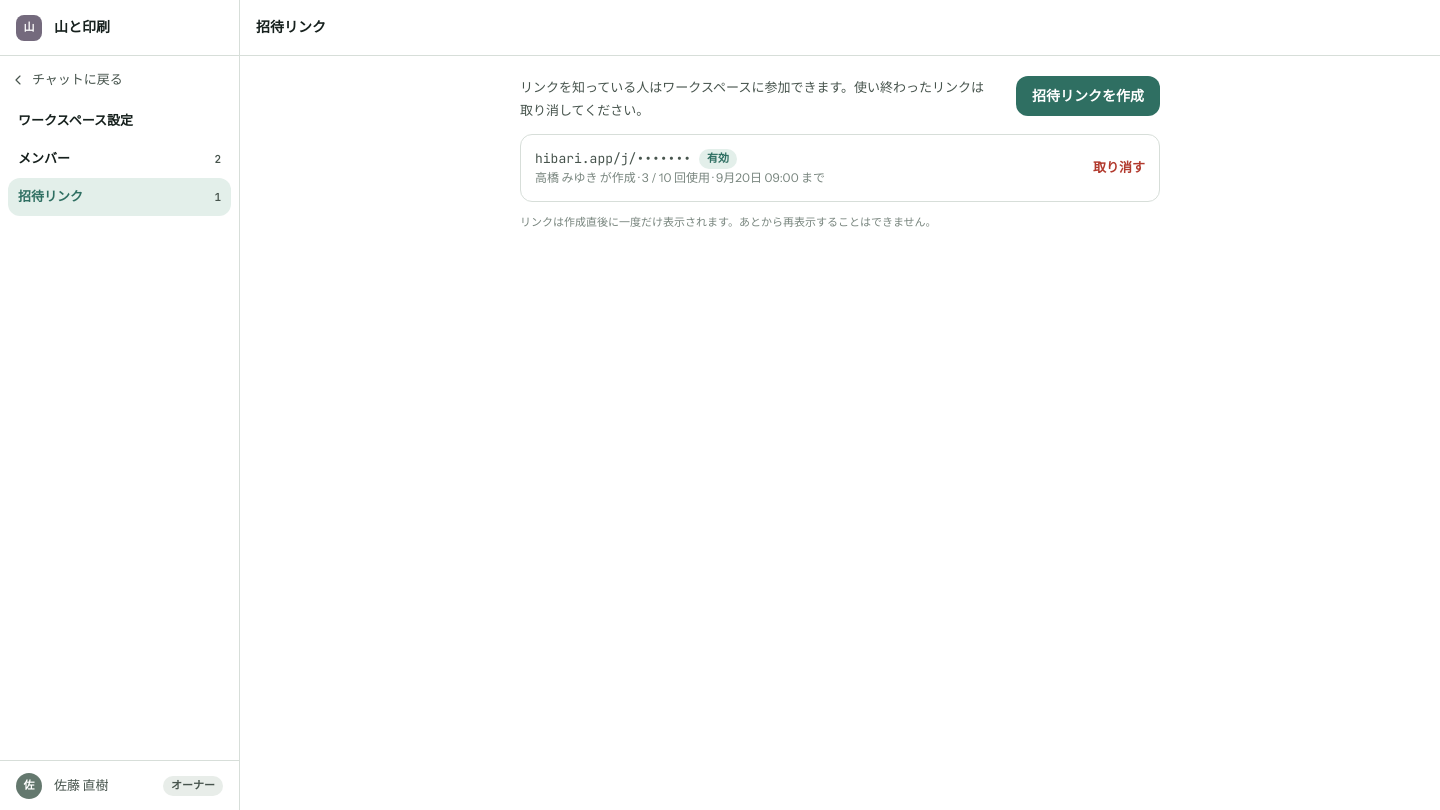
Test: the workspace admin screens › invites › creates a link, shows it once, and does not keep it in the list
The image size is (1440, 810).
Click the button "招待リンクを作成" at [1088, 96], box [1016,76,1160,116]
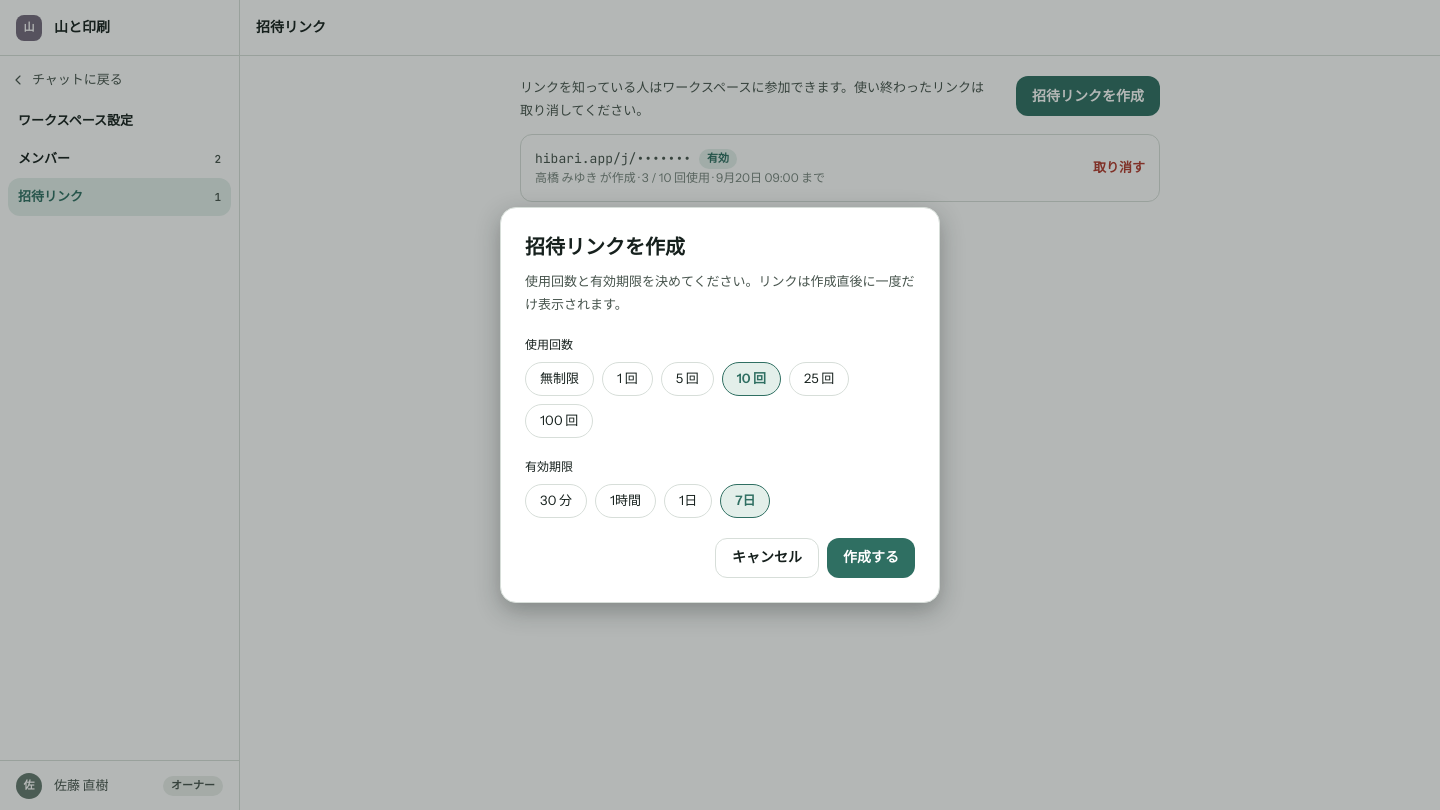
Click the radio button labelled "5 回" at [687, 379], box [661,362,714,396]
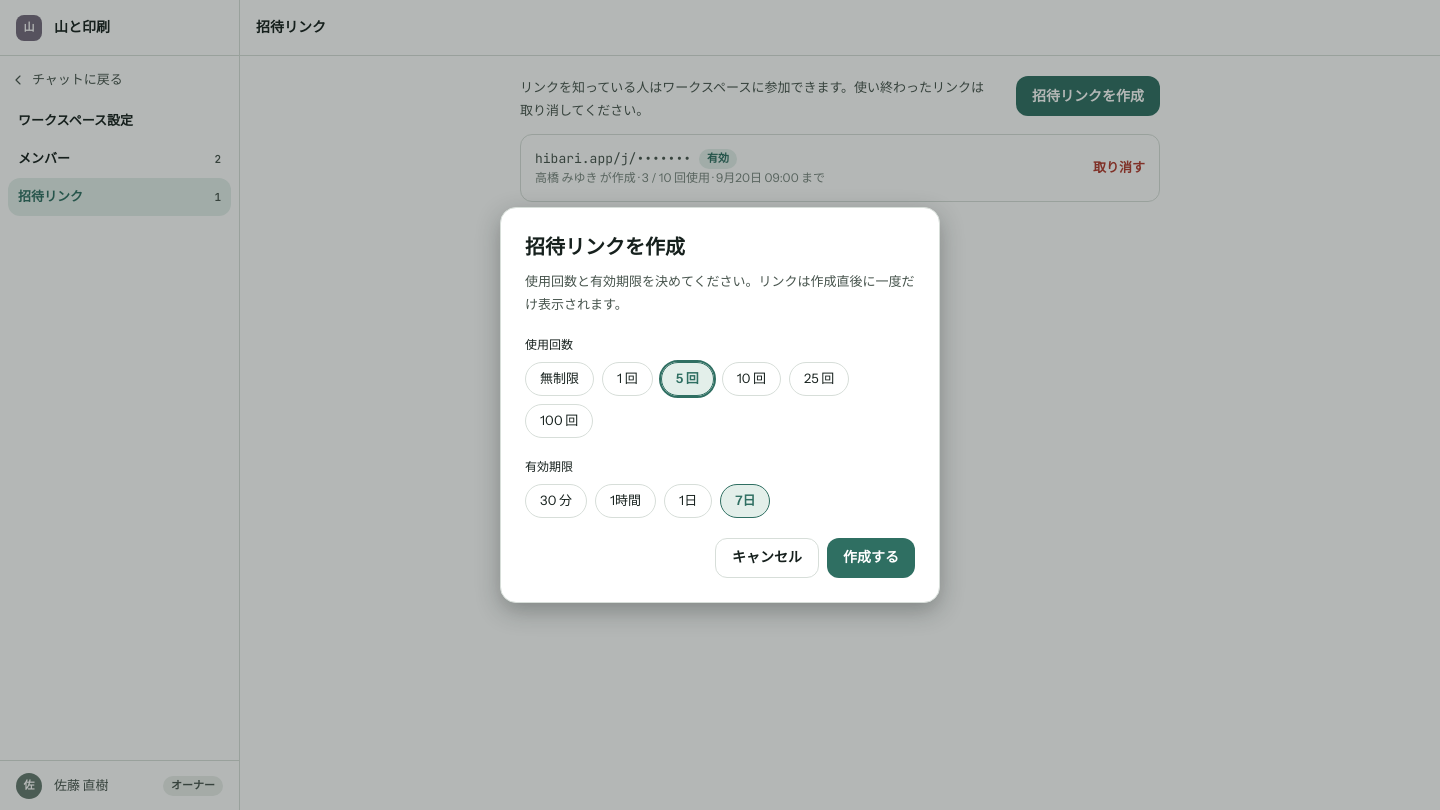
Click the radio button labelled "1日" at [688, 501], box [664,484,712,518]
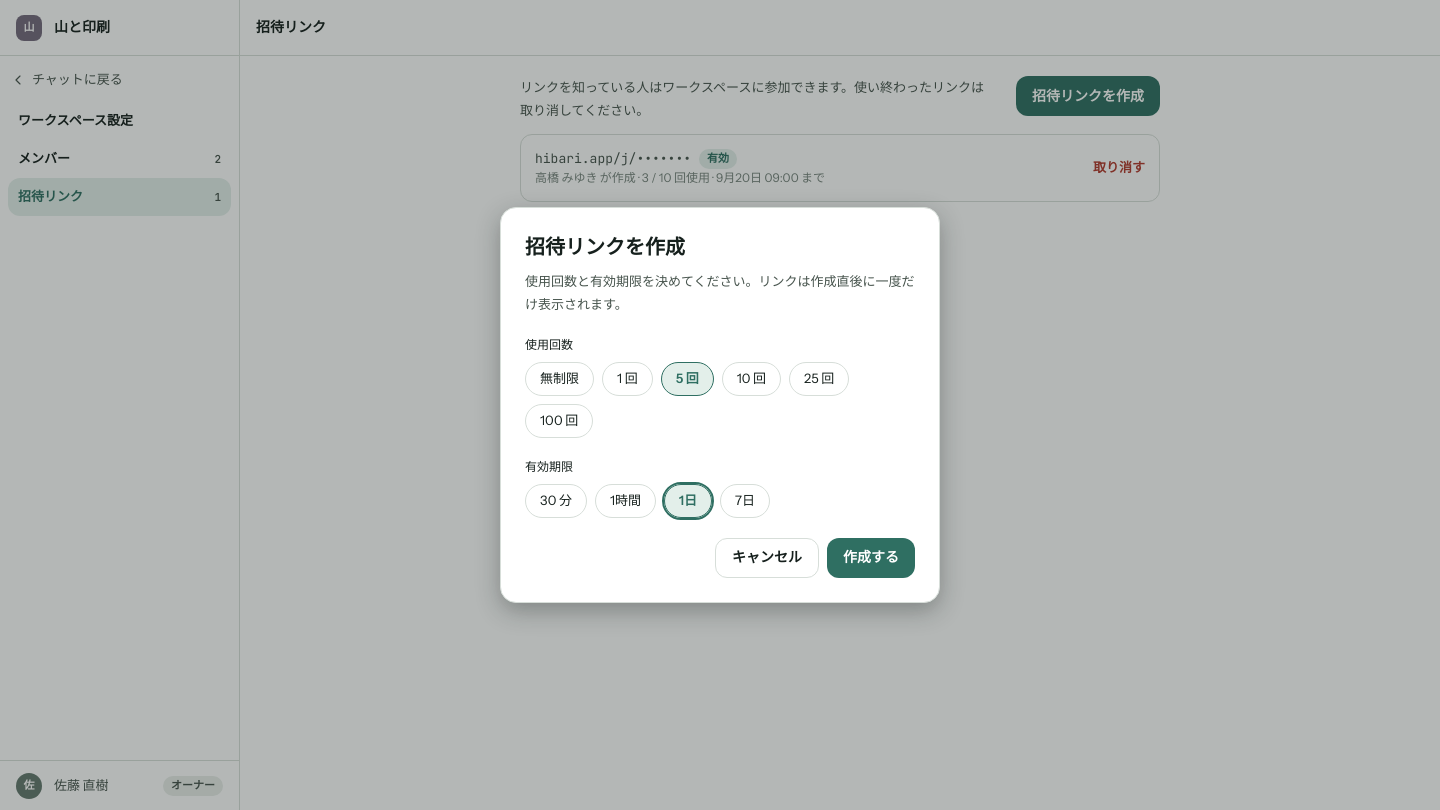
Click the button "作成する" at [871, 558], box [827,538,915,578]
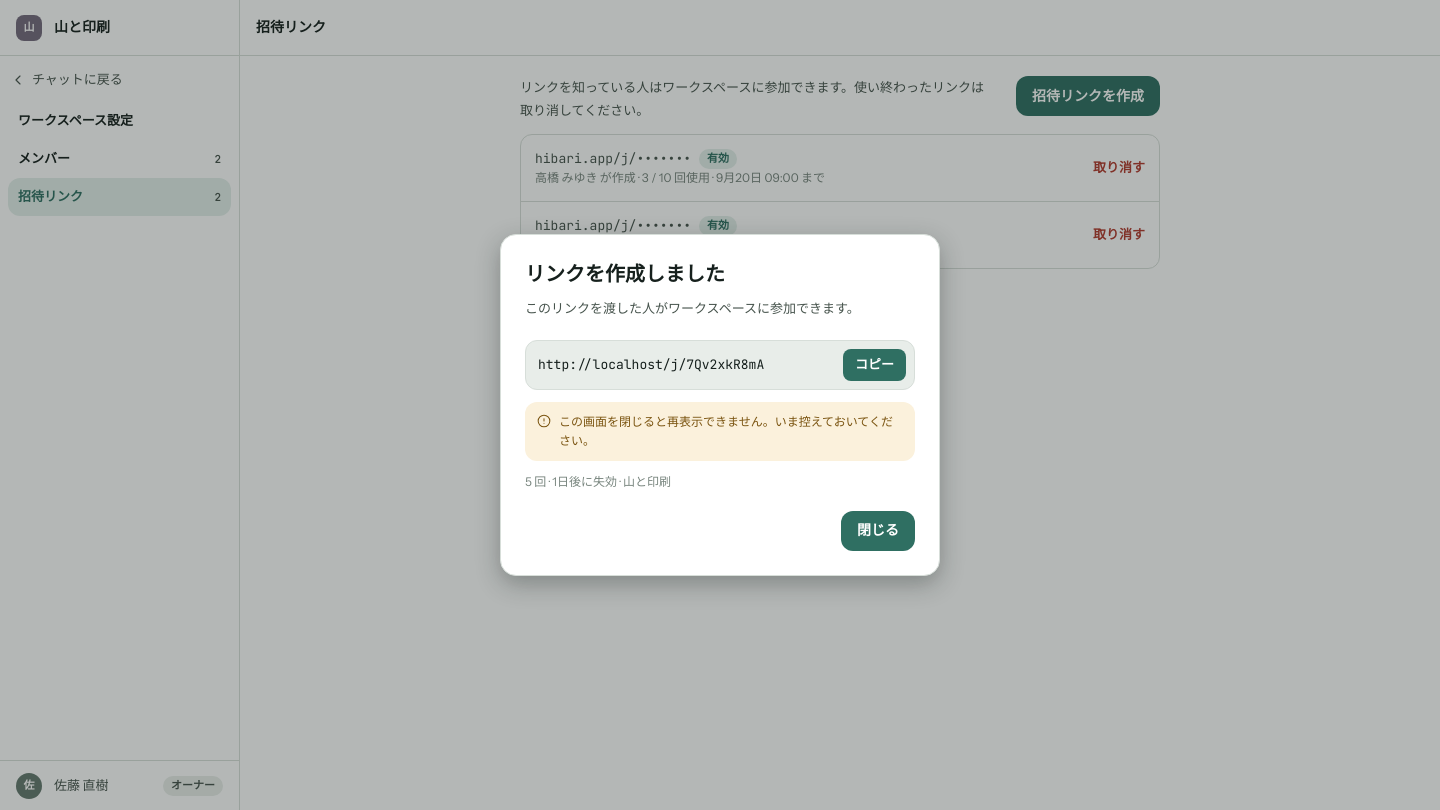
Expected: the text "5 回 · 1日後に失効 · 山と印刷" is shown, [525,474,671,489]
Click the button "閉じる" at [878, 531], box [841,511,915,551]
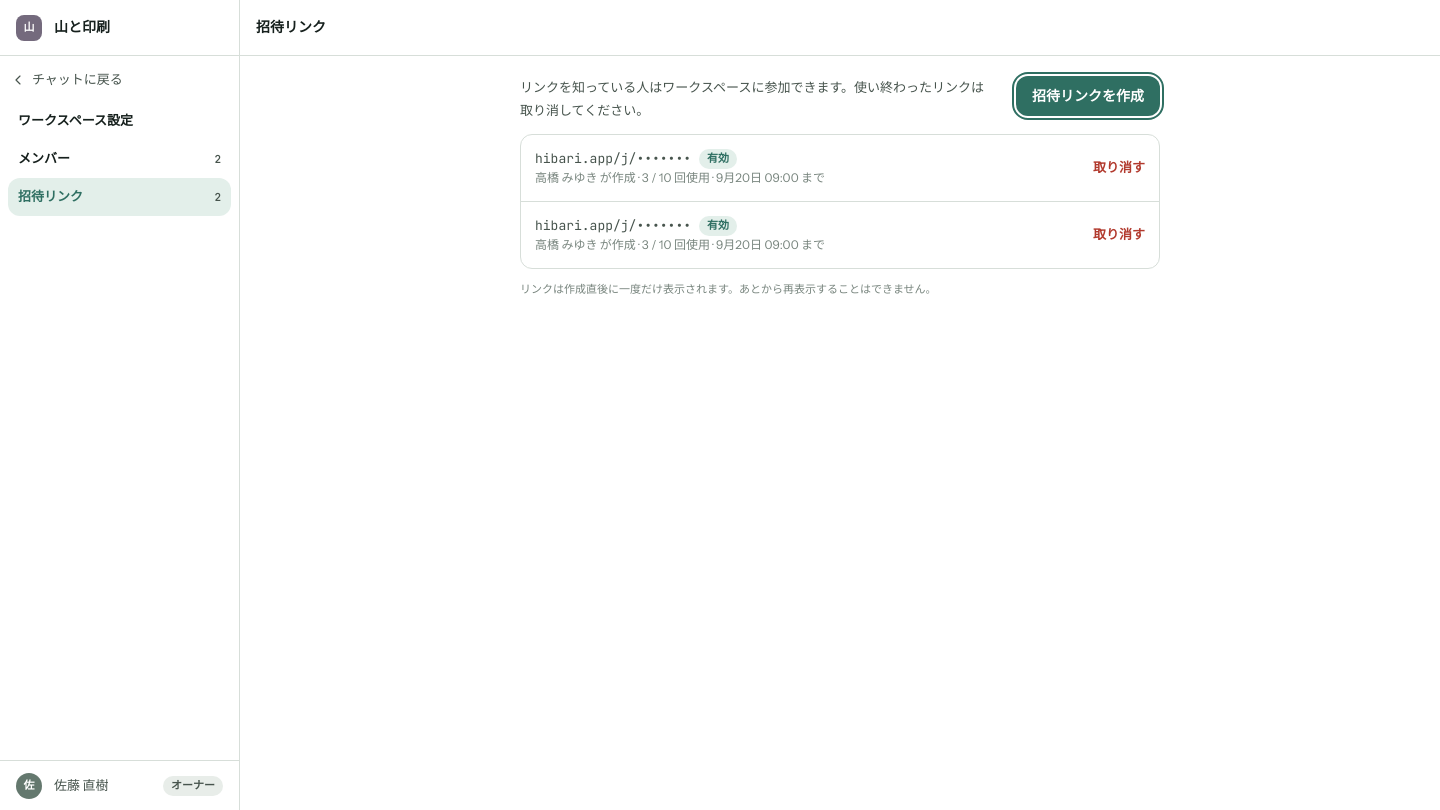
Expected: the text "hibari.app/j/•••••••" is shown 2 times, [535,149,691,168]; [535,216,691,235]
Expected: the text "7Qv2xkR8mA" is gone
